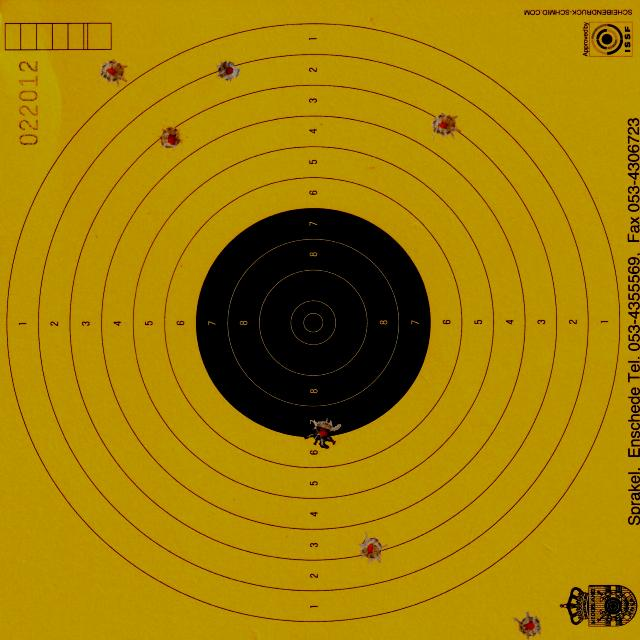0: (96, 56, 130, 88), (509, 610, 546, 638)
2: (214, 58, 242, 83)
3: (355, 531, 389, 564), (427, 111, 462, 143), (157, 123, 186, 153)
7: (303, 418, 344, 450)
Target: (6, 19, 624, 624)
black_contour: (194, 206, 432, 439)
